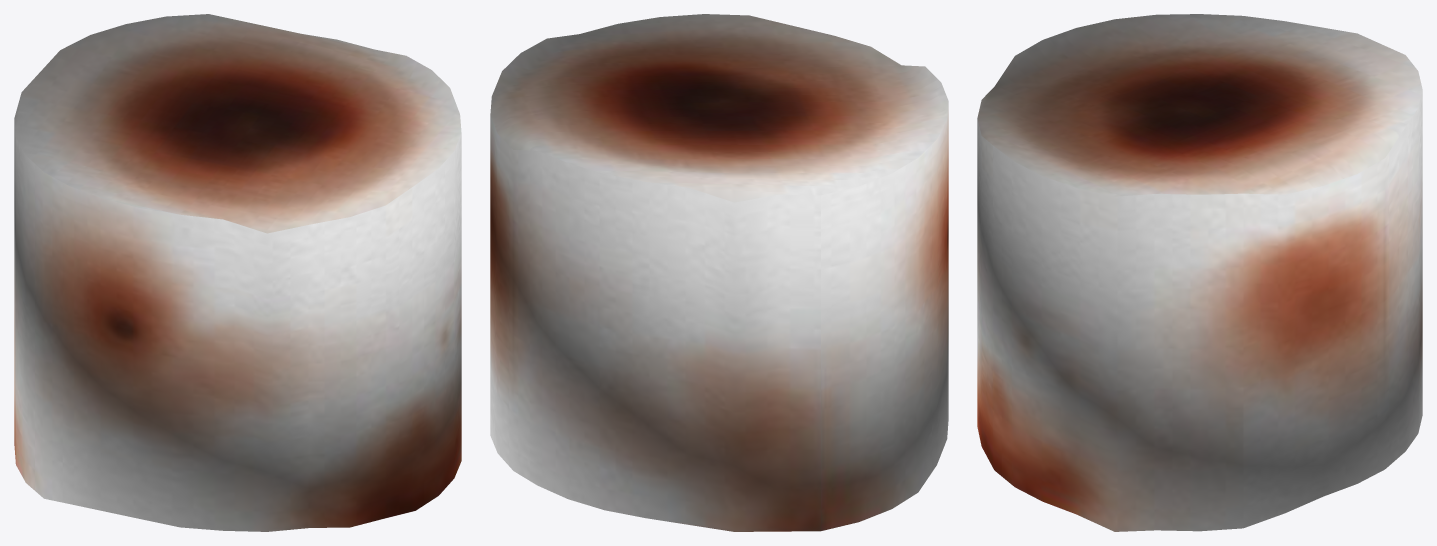
The model's file is marshmallow.glb.
3 renders of one model, left to right at view 1: azimuth 30°, elevation 25°; view 2: azimuth 150°, elevation 25°; view 3: azimuth 270°, elevation 25°, orthographic. The views are drawn at different scales.
Parts seen in each view (by area): view 1: Marshmallow; view 2: Marshmallow; view 3: Marshmallow.
Part boxes in pixels (x1,y1,x2,y2): Marshmallow: [14, 14, 461, 531]; Marshmallow: [490, 14, 948, 531]; Marshmallow: [977, 14, 1422, 531].
Size of the model in its own units: 0.3552 by 0.3131 by 0.3552.
Materials: 1 (1 with a texture image).
